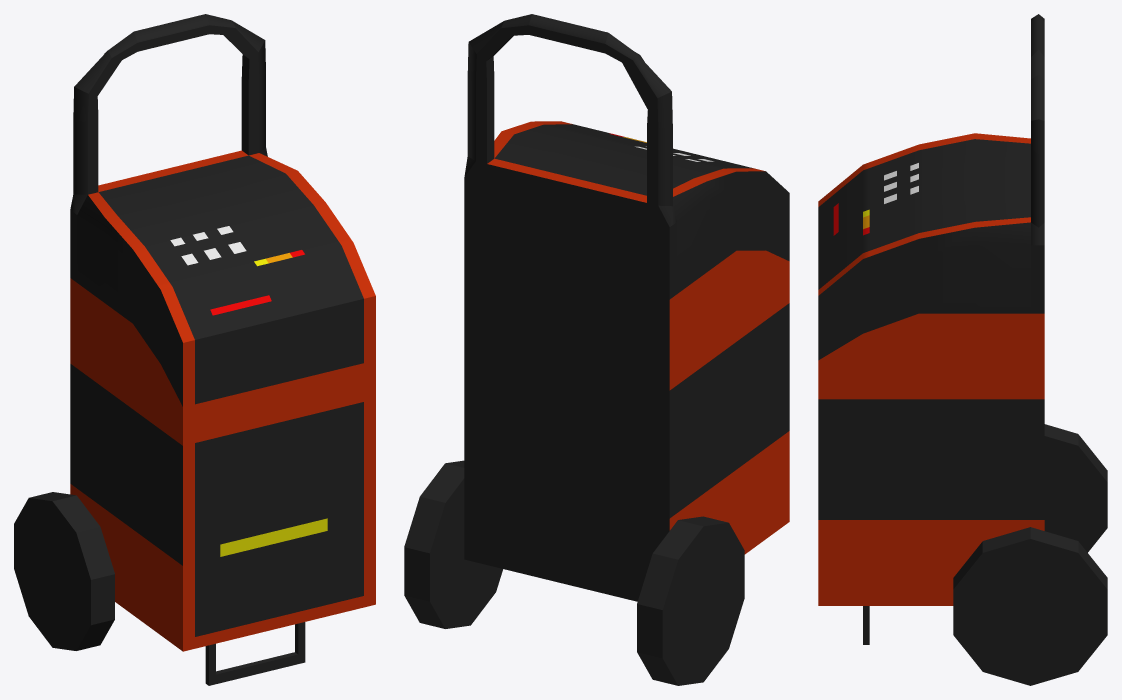
Rendered from BatteryCharger.fbx.
The picture shows the model from 3 angles, left to right: view 1: azimuth 30°, elevation 25°; view 2: azimuth 150°, elevation 25°; view 3: azimuth 270°, elevation 25°; orthographic projection. The views are drawn at different scales.
Visible parts, largest first — view 1: polySurface5; view 2: polySurface5; view 3: polySurface5.
Boxes of the visible parts, bbox=[...] form: polySurface5: bbox=[14, 14, 375, 685]; polySurface5: bbox=[404, 14, 789, 685]; polySurface5: bbox=[818, 14, 1107, 685].
Size of the model in its own units: 5.36 by 12.48 by 5.51.
